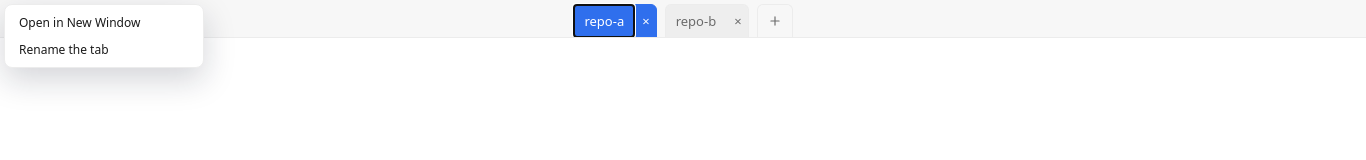
RepoTabs › prefills the rename input and selects the text
Step 1. Click the menu item "Rename the tab" → point(104, 50), box [9,36,199,63]
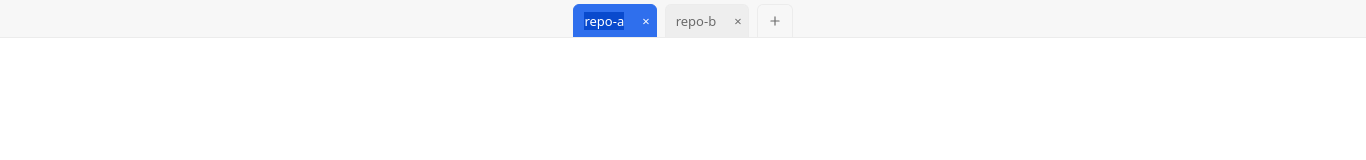
Expected: the field named "Rename repo-a" holds "repo-a", [574,5,634,37]
